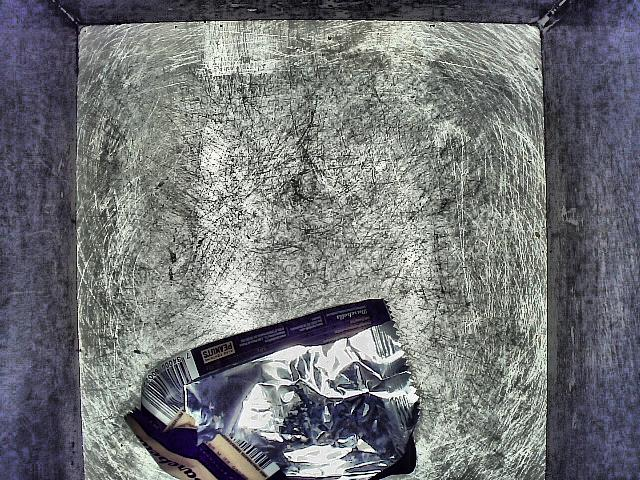Plastic: (122, 295, 453, 480)
